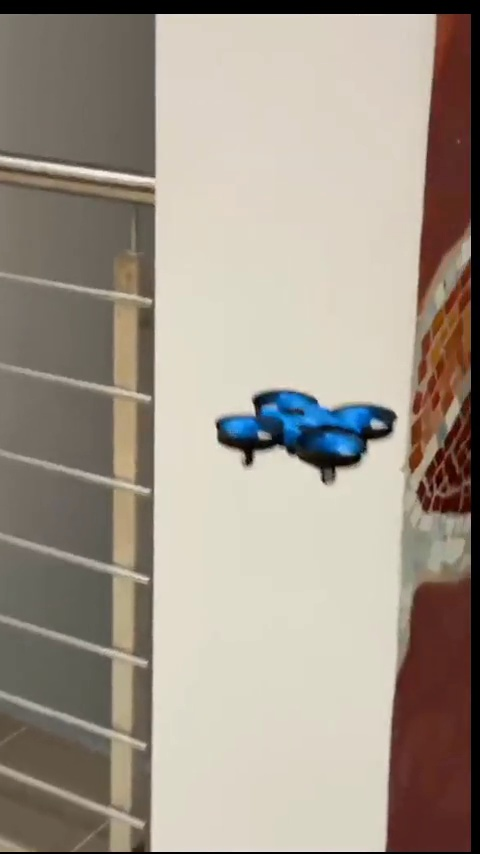drone: (213, 392, 403, 488)
